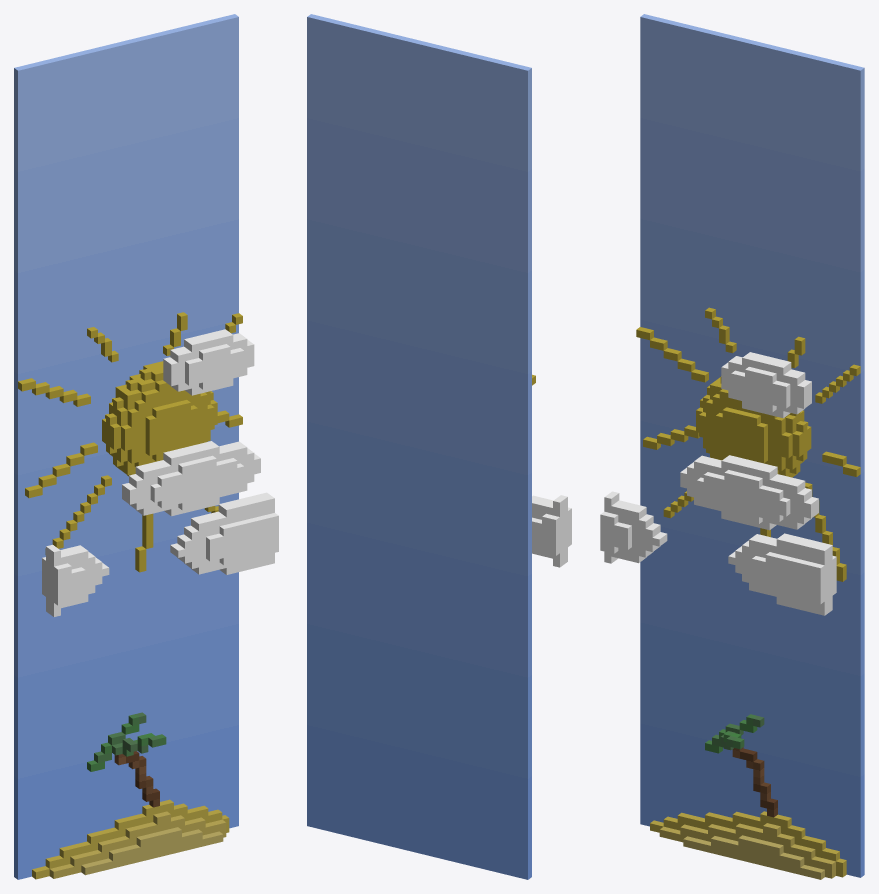
The model's file is scene_sunny.glb.
The picture shows the model from 3 angles, left to right: view 1: azimuth 30°, elevation 25°; view 2: azimuth 150°, elevation 25°; view 3: azimuth 330°, elevation 25°; orthographic projection.
Visible parts, largest first — view 1: scene_sunny_109, scene_sunny_108, scene_sunny_107; view 2: scene_sunny_109, scene_sunny_107; view 3: scene_sunny_109, scene_sunny_107, scene_sunny_108.
Part boxes in pixels (left/top/right/bottom): scene_sunny_109: left=14, top=14, right=238, bottom=879; scene_sunny_108: left=18, top=312, right=242, bottom=879; scene_sunny_107: left=42, top=329, right=278, bottom=616; scene_sunny_109: left=307, top=14, right=531, bottom=879; scene_sunny_107: left=532, top=495, right=571, bottom=567; scene_sunny_109: left=640, top=14, right=864, bottom=877; scene_sunny_107: left=600, top=352, right=836, bottom=615; scene_sunny_108: left=636, top=307, right=860, bottom=879.
Size of the model in its own units: 3.2 by 11.2 by 1.1.
Materials: 1 (1 with a texture image).
